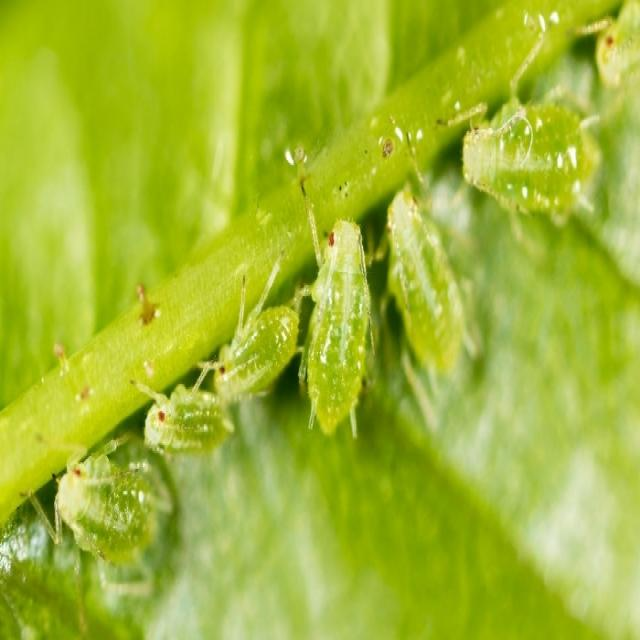Aphid-Grown-: (448, 73, 617, 243), (370, 164, 472, 412), (288, 182, 381, 452), (44, 430, 184, 576), (129, 356, 240, 484), (209, 282, 309, 405)
